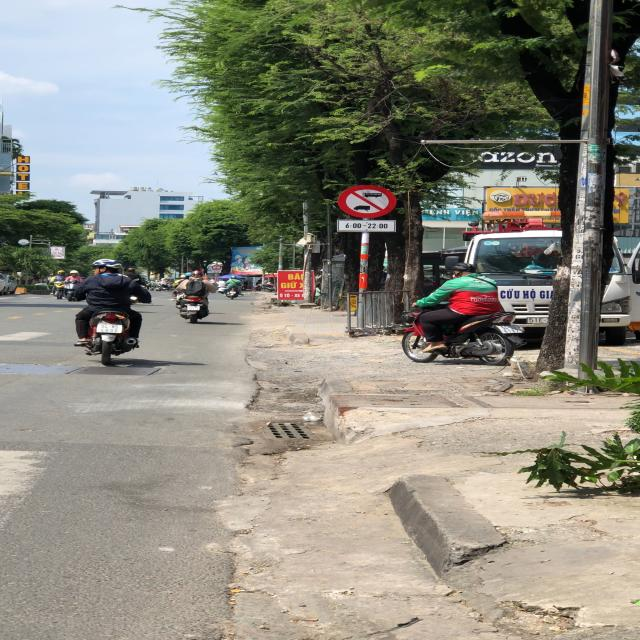Bien bao cam xe oto khach va xe oto tai: (333, 181, 402, 219)
